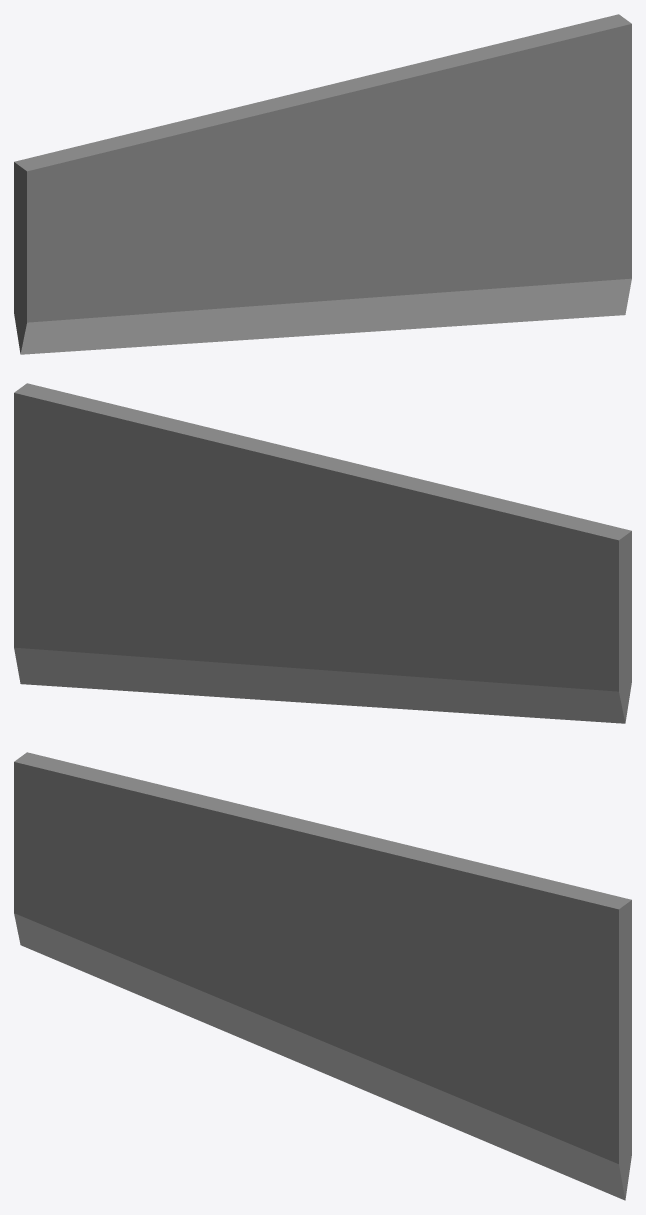
Rendered from obstacle_3_003.fbx.
3 renders of one model, top to bottom at view 1: azimuth 30°, elevation 25°; view 2: azimuth 150°, elevation 25°; view 3: azimuth 330°, elevation 25°, orthographic.
Visible parts, largest first — view 1: obstacle_3_003; view 2: obstacle_3_003; view 3: obstacle_3_003.
Boxes of the visible parts, bbox=[...] form: obstacle_3_003: bbox=[14, 14, 631, 354]; obstacle_3_003: bbox=[14, 383, 631, 723]; obstacle_3_003: bbox=[14, 752, 631, 1200].
Bounding box in the file's own units: 1387 × 52.02 × 649.
